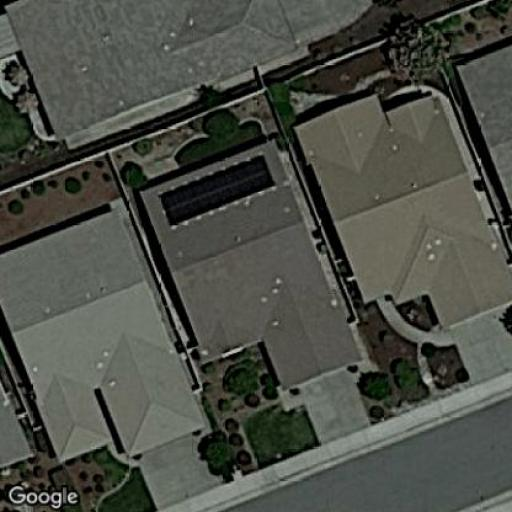solar-panel: (156, 152, 276, 228)
